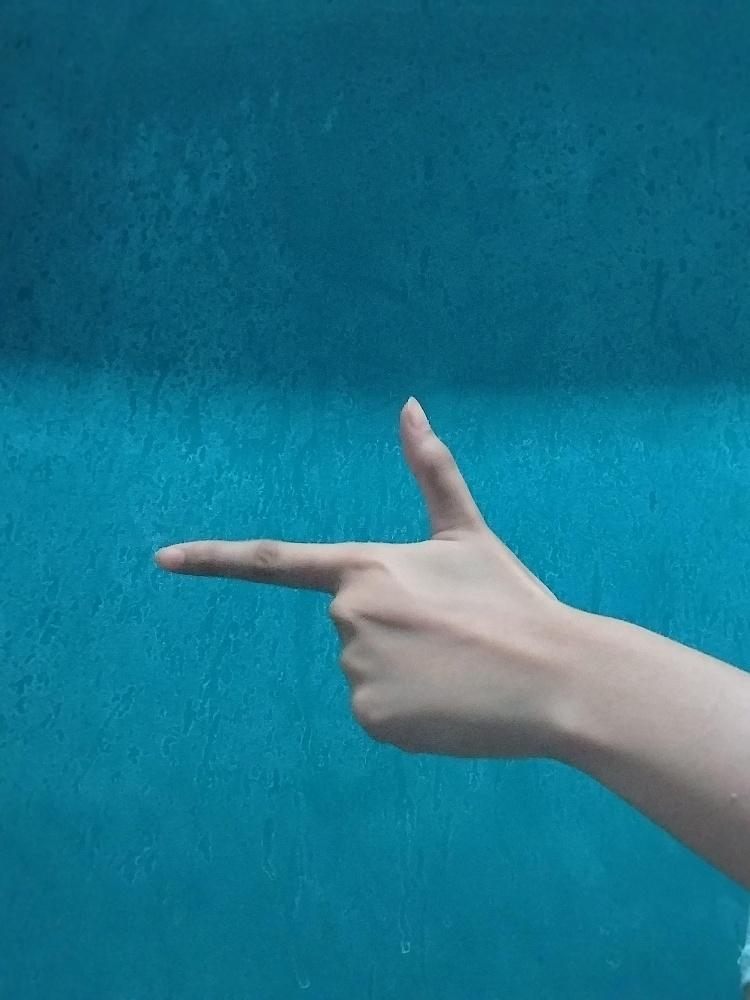g: (149, 393, 567, 758)
